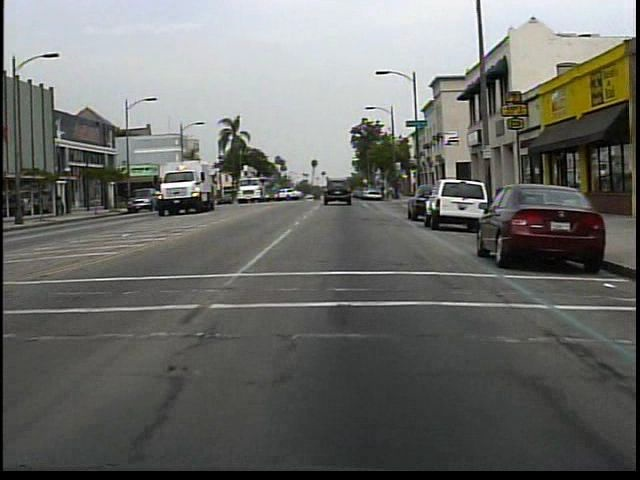person: (58, 193, 67, 218)
